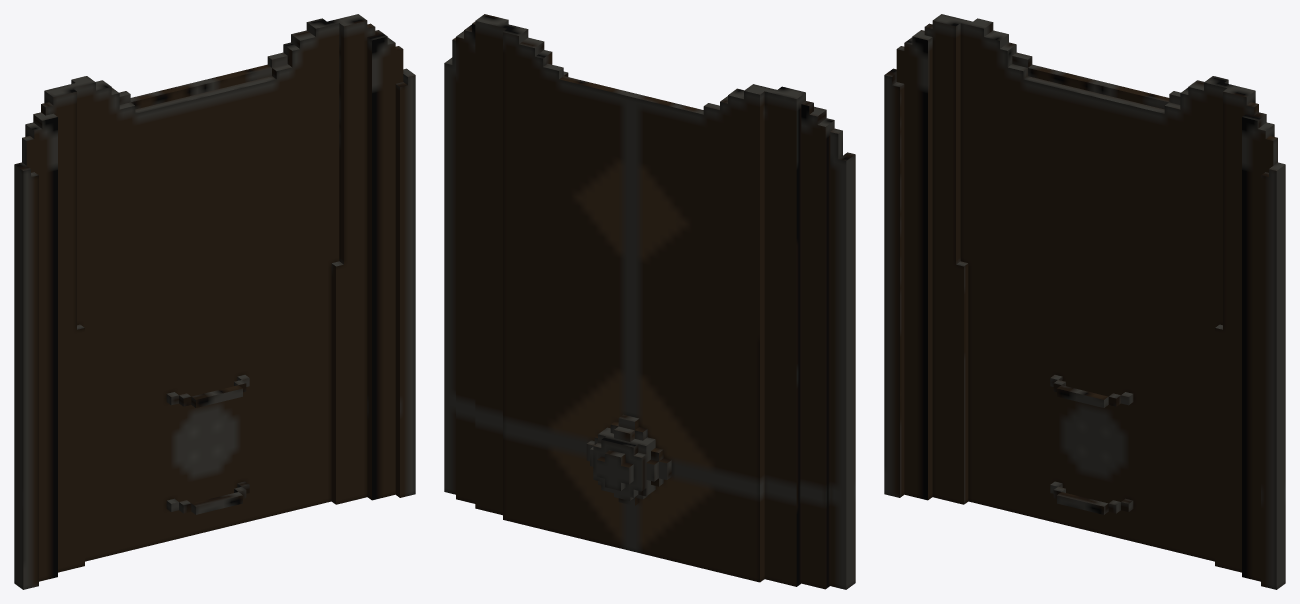
Rendered from TowerShield_Wooden_Diamond_Brown_Half.obj.
3 views of the same model, side by side, from view 1: azimuth 30°, elevation 25°; view 2: azimuth 150°, elevation 25°; view 3: azimuth 330°, elevation 25° (orthographic). The views are drawn at different scales.
Visible parts, largest first — view 1: TowerShield_Wooden_Diamond_Brown_Half_TowerShield_Wooden_Diamond; view 2: TowerShield_Wooden_Diamond_Brown_Half_TowerShield_Wooden_Diamond; view 3: TowerShield_Wooden_Diamond_Brown_Half_TowerShield_Wooden_Diamond.
Boxes of the visible parts, x1,y1,x2,y2 form: TowerShield_Wooden_Diamond_Brown_Half_TowerShield_Wooden_Diamond: (14,14,415,589); TowerShield_Wooden_Diamond_Brown_Half_TowerShield_Wooden_Diamond: (444,14,855,589); TowerShield_Wooden_Diamond_Brown_Half_TowerShield_Wooden_Diamond: (884,14,1285,589).
Bounding box in the file's own units: 0.5 × 0.58 × 0.09.
